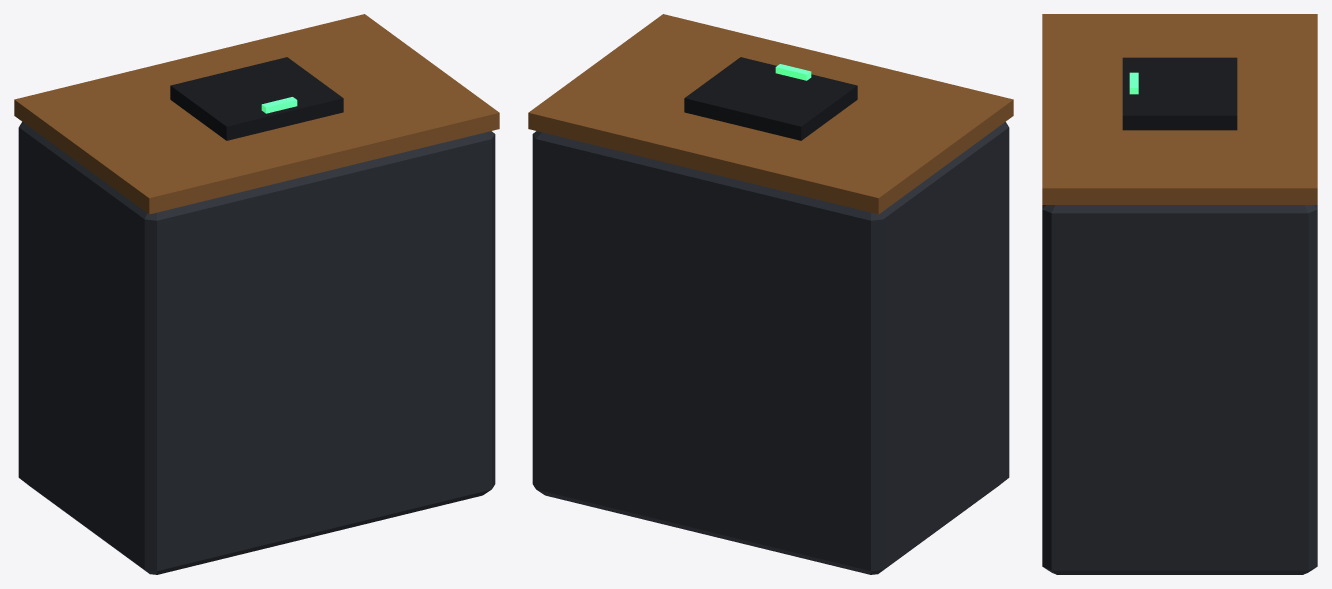
File: chrono_station.glb
The picture shows the model from 3 angles, left to right: view 1: azimuth 30°, elevation 25°; view 2: azimuth 150°, elevation 25°; view 3: azimuth 270°, elevation 25°; orthographic projection.
Visible parts, largest first — view 1: chrono_station; view 2: chrono_station; view 3: chrono_station.
Boxes of the visible parts, <box> form: chrono_station: <box>14,14,499,574</box>; chrono_station: <box>528,14,1013,574</box>; chrono_station: <box>1042,14,1317,574</box>.
Size of the model in its own units: 0.9 by 0.99 by 0.6.
